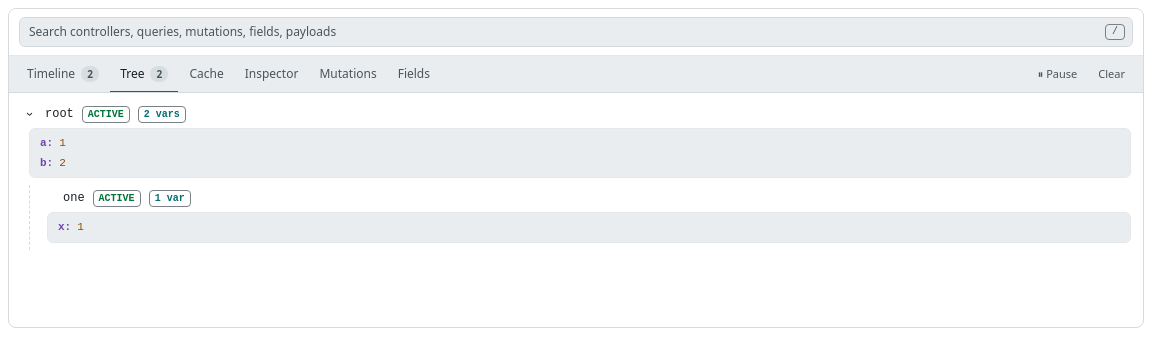
Test: Tree ctx.debug variables › the vars toggle hides and shows the variables; its label pluralizes
Expected: the button "1 var" is shown, [149,190,191,206]
Click the button "2 vars" at (162, 114), box [138,106,186,122]
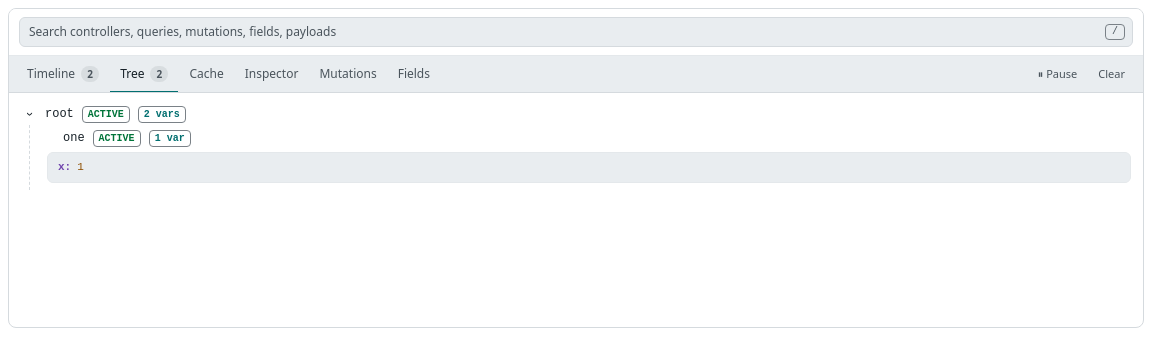
Expected: the number of elements with class "olas-devtools-tree-vars" is 1, [47,152,1131,182]
Click the button "2 vars" at (162, 114), box [138,106,186,122]
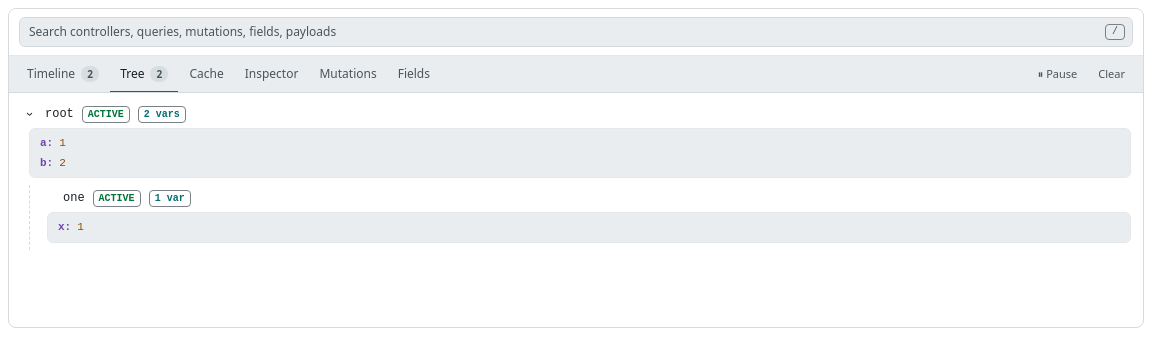
Expected: the number of elements with class "olas-devtools-tree-vars" is 2, [29,128,1131,178]; [47,212,1131,242]
